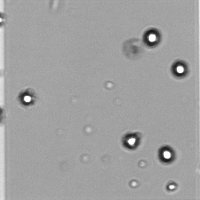Living Cell: (137, 23, 166, 51), (13, 86, 41, 111), (117, 128, 145, 153), (154, 141, 178, 167), (167, 57, 192, 81)
